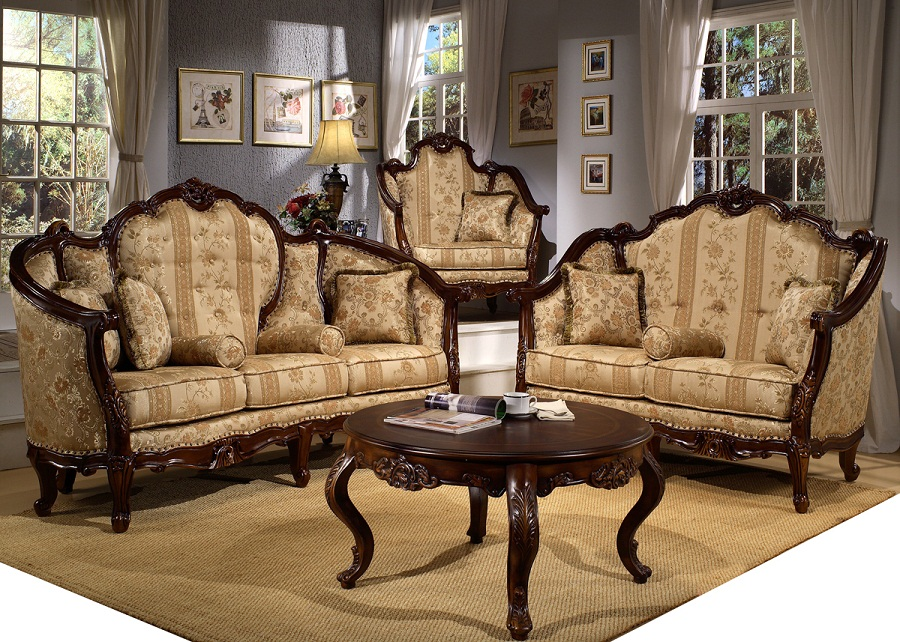Carving Chair: (13, 184, 439, 518), (523, 197, 885, 532)
Carving Table: (336, 385, 662, 620)
